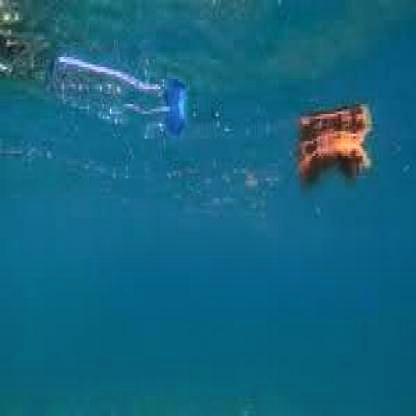misc: (292, 131, 379, 186)
pbottle: (51, 52, 195, 144)
